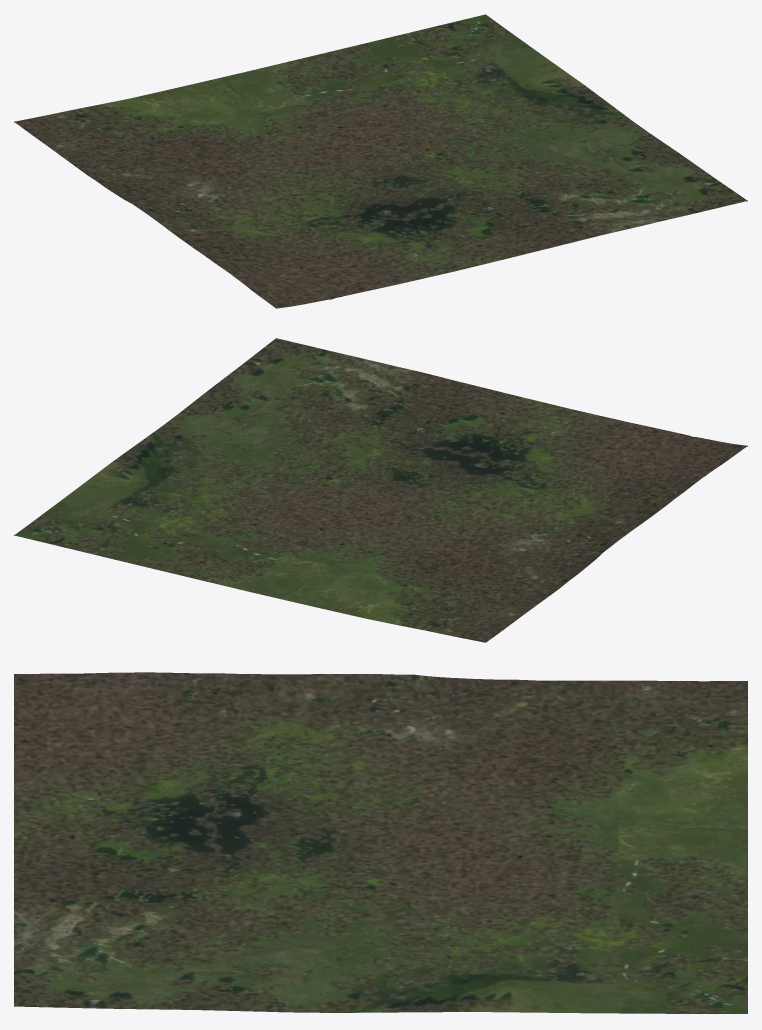
The picture shows the model from 3 angles, top to bottom: view 1: azimuth 30°, elevation 25°; view 2: azimuth 150°, elevation 25°; view 3: azimuth 270°, elevation 25°; orthographic projection. The views are drawn at different scales.
Bounding box in the file's own units: 500 × 15.11 × 481.
1 material, 1 textured.
